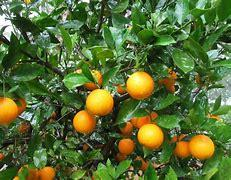orange: (124, 68, 180, 114), (77, 89, 118, 125), (129, 124, 171, 153), (186, 130, 217, 154), (0, 92, 21, 124)
